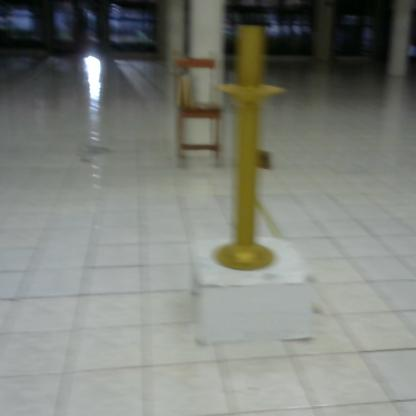pole: (216, 22, 287, 275)
